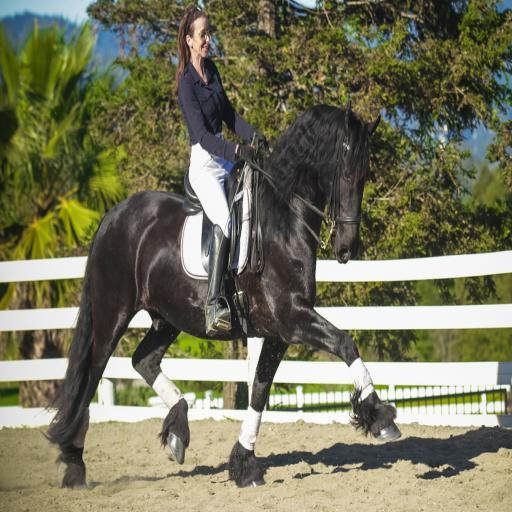horse: (36, 97, 402, 490)
